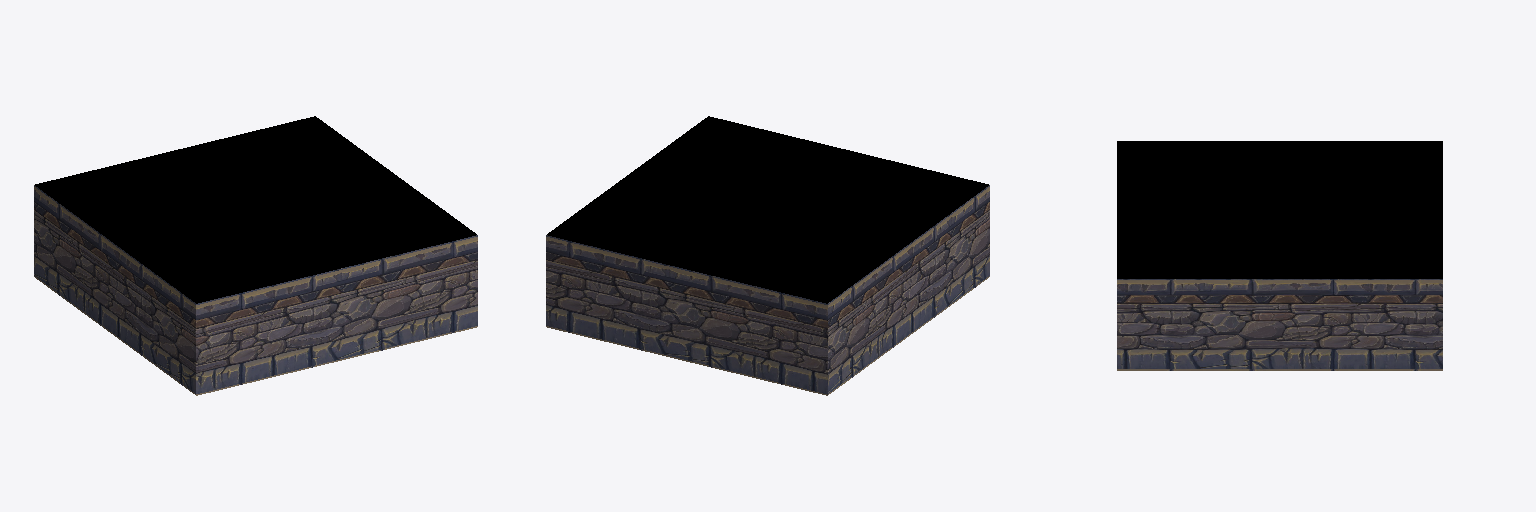
The picture shows the model from 3 angles: view 1: azimuth 30°, elevation 25°; view 2: azimuth 150°, elevation 25°; view 3: azimuth 270°, elevation 25°; orthographic projection.
Parts seen in each view (by area): view 1: pCube1; view 2: pCube1; view 3: pCube1.
Part boxes in pixels (bbox=[...]): pCube1: bbox=[34, 116, 477, 395]; pCube1: bbox=[546, 116, 989, 395]; pCube1: bbox=[1117, 141, 1442, 370].
Size of the model in its own units: 96 by 30 by 96.
Materials: 4 (2 with a texture image).